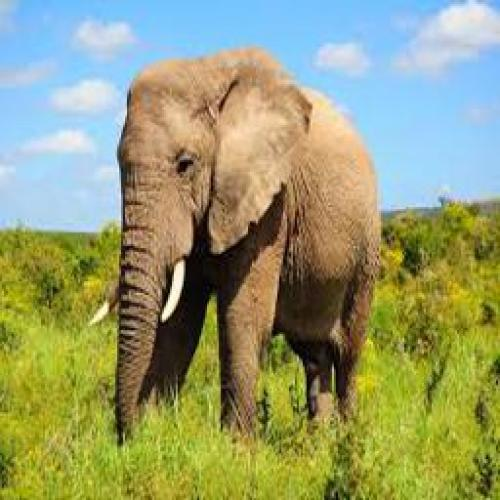african_elephant-endangered: (92, 46, 383, 450)
